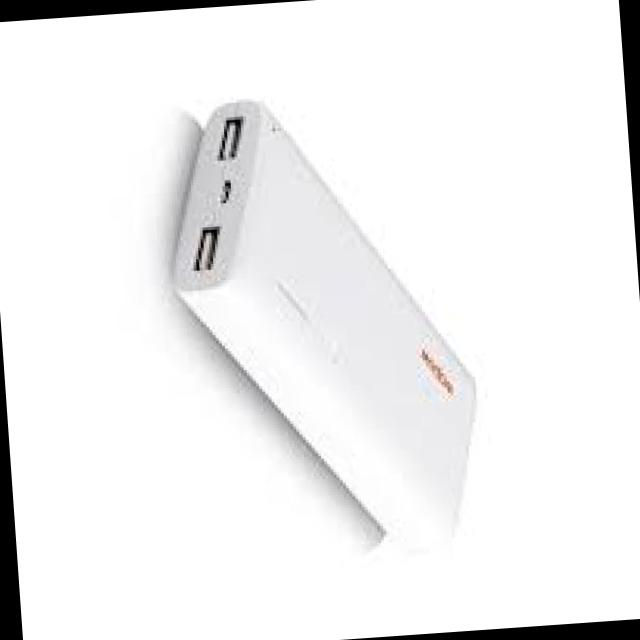power_bank: (153, 81, 488, 571)
